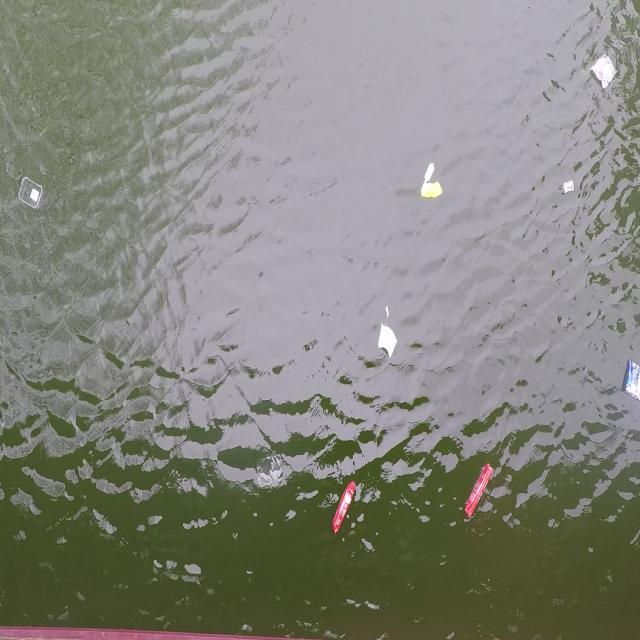Autre plastique: (16, 173, 47, 212)
Sac plastique: (588, 49, 622, 91)
